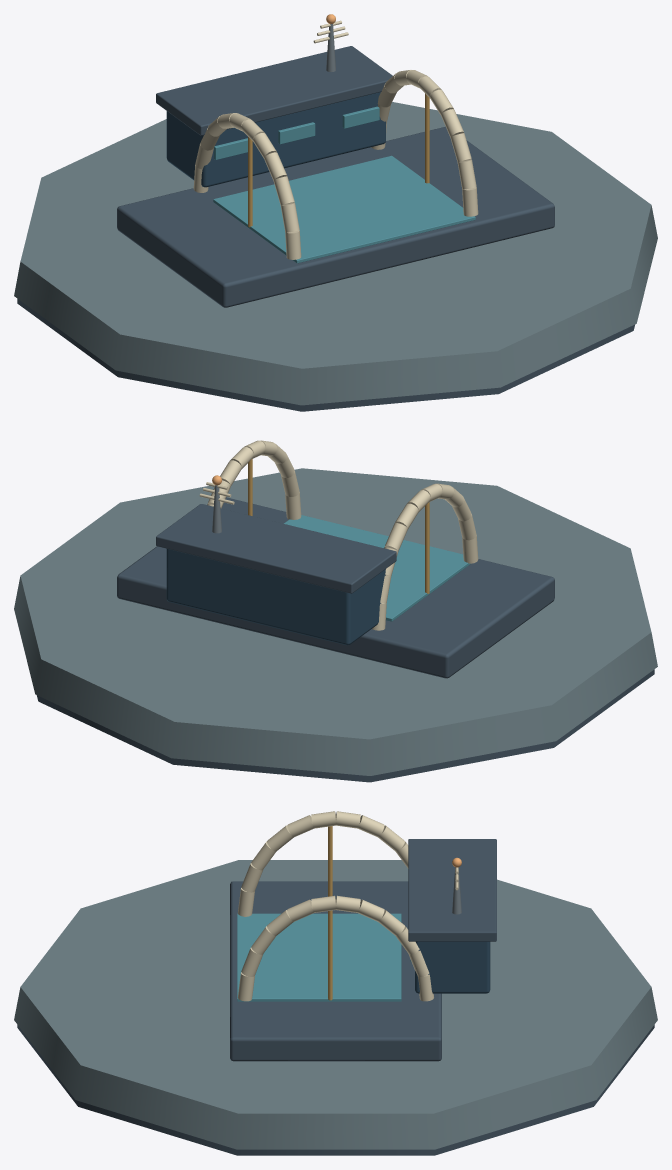
File: blackwell.glb
3 renders of one model, top to bottom at view 1: azimuth 30°, elevation 25°; view 2: azimuth 150°, elevation 25°; view 3: azimuth 270°, elevation 25°, orthographic. The views are drawn at different scales.
Parts seen in each view (by area): view 1: Terrain cutaway, Structural deck, Tidal basin, Roof slab, Habitat pressure shell, Substrate; view 2: Terrain cutaway, Structural deck, Habitat pressure shell, Roof slab, Tidal basin, Substrate; view 3: Terrain cutaway, Structural deck, Tidal basin, Roof slab, Substrate, Habitat pressure shell.
Boxes of the visible parts, x1,y1,x2,y2 form: Terrain cutaway: [14, 102, 657, 405]; Structural deck: [117, 126, 554, 307]; Tidal basin: [213, 155, 475, 263]; Roof slab: [156, 46, 392, 135]; Habitat pressure shell: [166, 92, 385, 187]; Substrate: [17, 299, 635, 411]; Terrain cutaway: [14, 468, 657, 775]; Structural deck: [117, 497, 554, 678]; Habitat pressure shell: [166, 549, 385, 645]; Roof slab: [156, 504, 396, 593]; Tidal basin: [284, 515, 470, 621]; Substrate: [36, 669, 654, 782]; Terrain cutaway: [14, 860, 657, 1149]; Structural deck: [230, 881, 441, 1061]; Tidal basin: [237, 913, 401, 1001]; Roof slab: [408, 839, 496, 941]; Substrate: [17, 1025, 654, 1155]; Habitat pressure shell: [415, 941, 490, 993].
Size of the model in its own units: 5.52 by 1.95 by 5.8.
